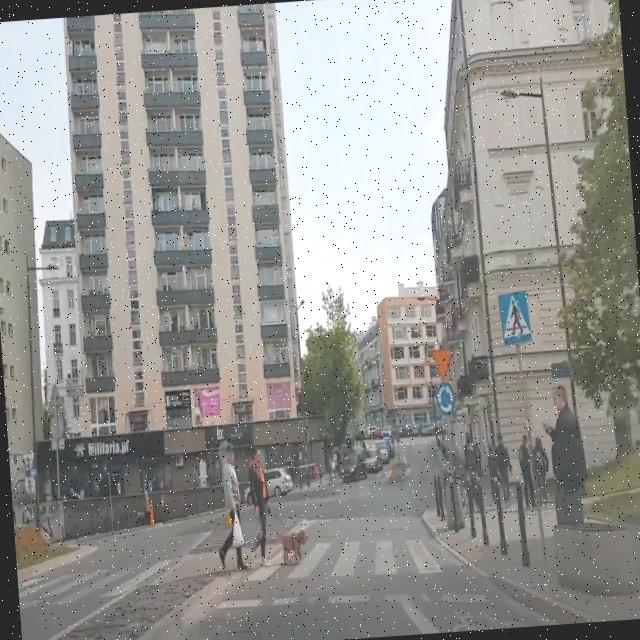Przejscie dla pieszych: (497, 290, 534, 346)
Ustap pierwszenstwa: (431, 346, 453, 381)
